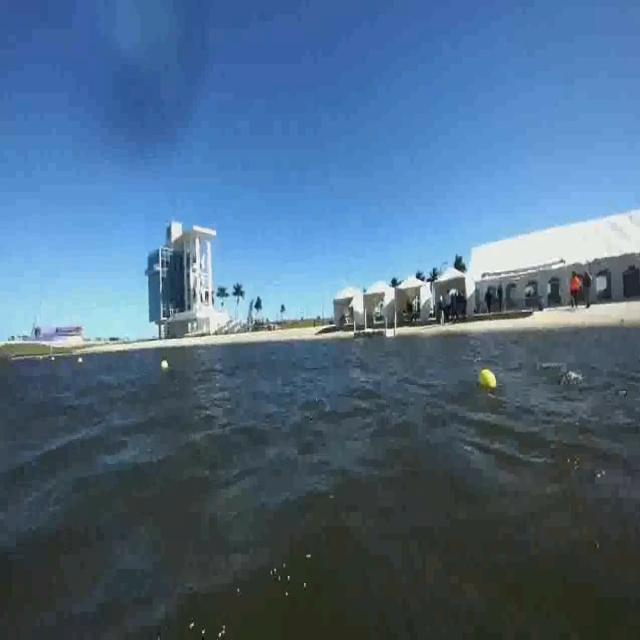yellow-buoy: (479, 367, 498, 389), (162, 357, 172, 373)
